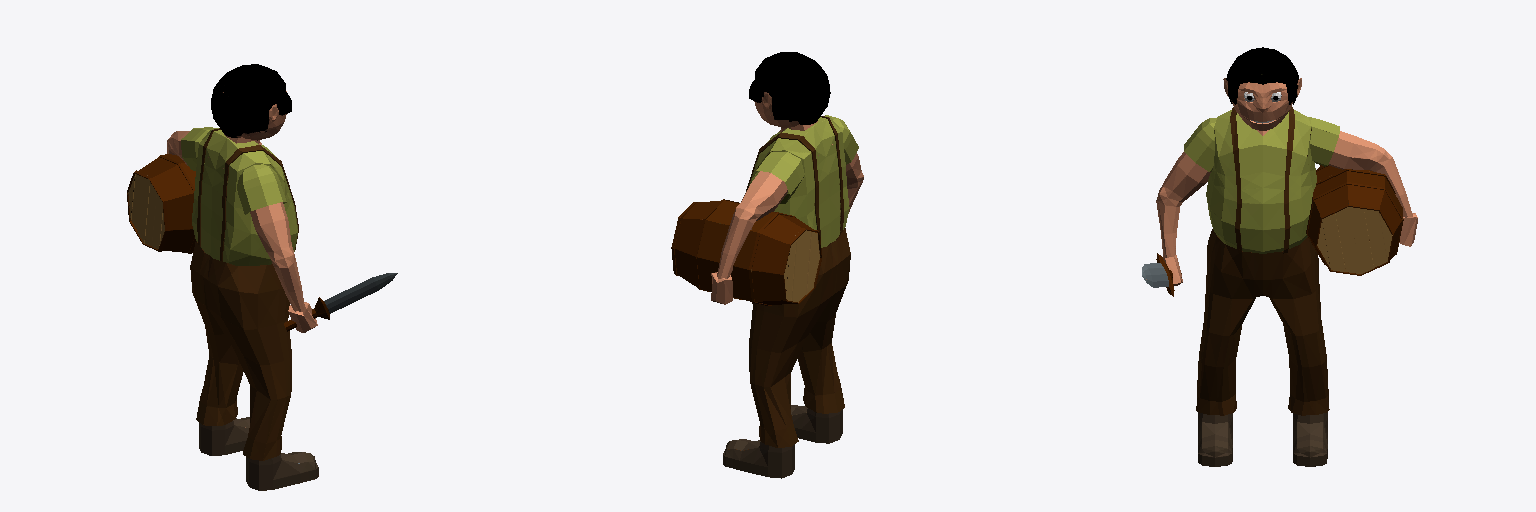
3 views of the same model, side by side, from view 1: azimuth 30°, elevation 25°; view 2: azimuth 150°, elevation 25°; view 3: azimuth 270°, elevation 25° (orthographic).
Parts seen in each view (by area): view 1: Cube.010_Cube.001; view 2: Cube.010_Cube.001; view 3: Cube.010_Cube.001.
Part boxes in pixels (x1,y1,x2,y2): Cube.010_Cube.001: (127,64,397,490); Cube.010_Cube.001: (671,52,863,478); Cube.010_Cube.001: (1142,47,1417,466).
Bounding box in the file's own units: 2.6 × 6.76 × 4.29.
1 materials, 1 textured.